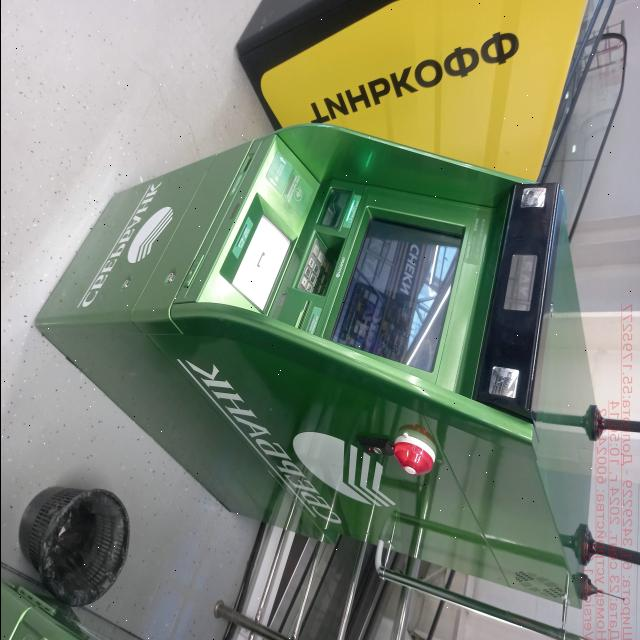bank: (35, 120, 594, 610)
